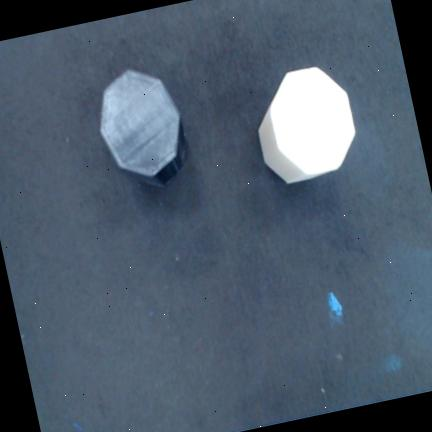Prisma_hexagonal: (258, 67, 356, 183), (99, 69, 186, 186)
